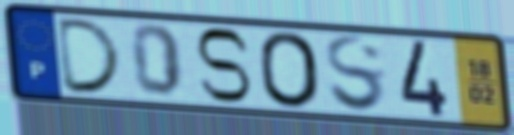0: (128, 21, 186, 102)
4: (398, 38, 451, 120)
D: (55, 16, 127, 96)
O: (256, 29, 325, 111)
S: (322, 33, 389, 117), (192, 25, 254, 106)
